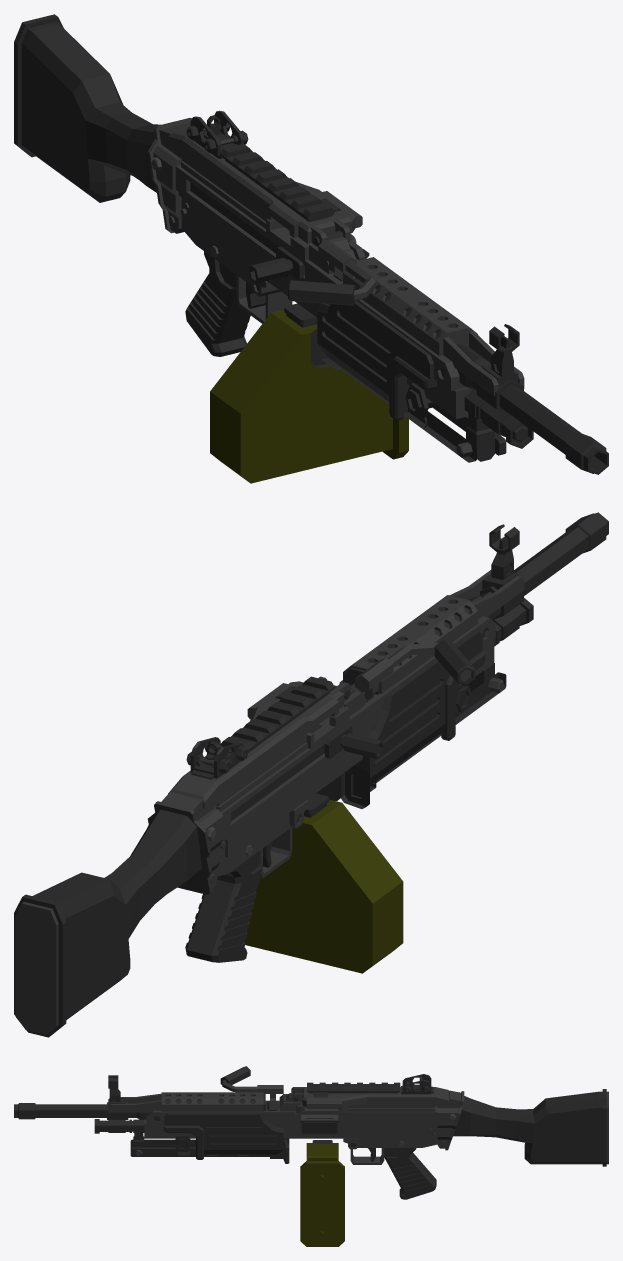
File: LMG_B.fbx
3 views of the same model, one above another, from view 1: azimuth 30°, elevation 25°; view 2: azimuth 150°, elevation 25°; view 3: azimuth 270°, elevation 25° (orthographic). The views are drawn at different scales.
Parts seen in each view (by area): view 1: LMG_B_Mag, LMG_B_Receiver, LMG_B_Stock, LMG_B_BarrelGuard, LMG_B_Receiver_Part, LMG_B_Barrel, LMG_B_Grip, LMG_B_Bipod_Right, LMG_B_Bolt; view 2: LMG_B_Stock, LMG_B_Mag, LMG_B_Receiver, LMG_B_BarrelGuard, LMG_B_Receiver_Part, LMG_B_Barrel, LMG_B_Grip, LMG_B_Bipod_Right, LMG_B_Bolt; view 3: LMG_B_Receiver, LMG_B_Stock, LMG_B_BarrelGuard, LMG_B_Mag, LMG_B_Receiver_Part, LMG_B_Barrel, LMG_B_Grip, LMG_B_Bipod_Left, LMG_B_Bipod_Right.
Boxes of the visible parts, x1,y1,x2,y2 form: LMG_B_Mag: (210,303,408,483); LMG_B_Receiver: (147,118,472,420); LMG_B_Stock: (14,14,160,202); LMG_B_BarrelGuard: (317,257,524,420); LMG_B_Receiver_Part: (168,110,362,247); LMG_B_Barrel: (333,272,608,474); LMG_B_Grip: (185,251,250,356); LMG_B_Bipod_Right: (310,329,476,462); LMG_B_Bolt: (249,246,304,283); LMG_B_Stock: (14,809,201,1037); LMG_B_Mag: (244,793,403,973); LMG_B_Receiver: (147,616,495,894); LMG_B_BarrelGuard: (339,570,524,783); LMG_B_Receiver_Part: (168,676,350,808); LMG_B_Barrel: (350,512,608,702); LMG_B_Grip: (185,850,262,962); LMG_B_Bipod_Right: (341,672,506,808); LMG_B_Bolt: (324,725,384,758); LMG_B_Receiver: (144,1066,464,1164); LMG_B_Stock: (453,1089,608,1166); LMG_B_BarrelGuard: (108,1092,283,1159); LMG_B_Mag: (300,1140,344,1246); LMG_B_Receiver_Part: (291,1074,449,1108); LMG_B_Barrel: (14,1075,279,1156); LMG_B_Grip: (384,1148,436,1199); LMG_B_Bipod_Left: (130,1139,289,1163); LMG_B_Bipod_Right: (130,1138,289,1147).
Size of the model in its own units: 0.2185 by 0.3313 by 1.2.
